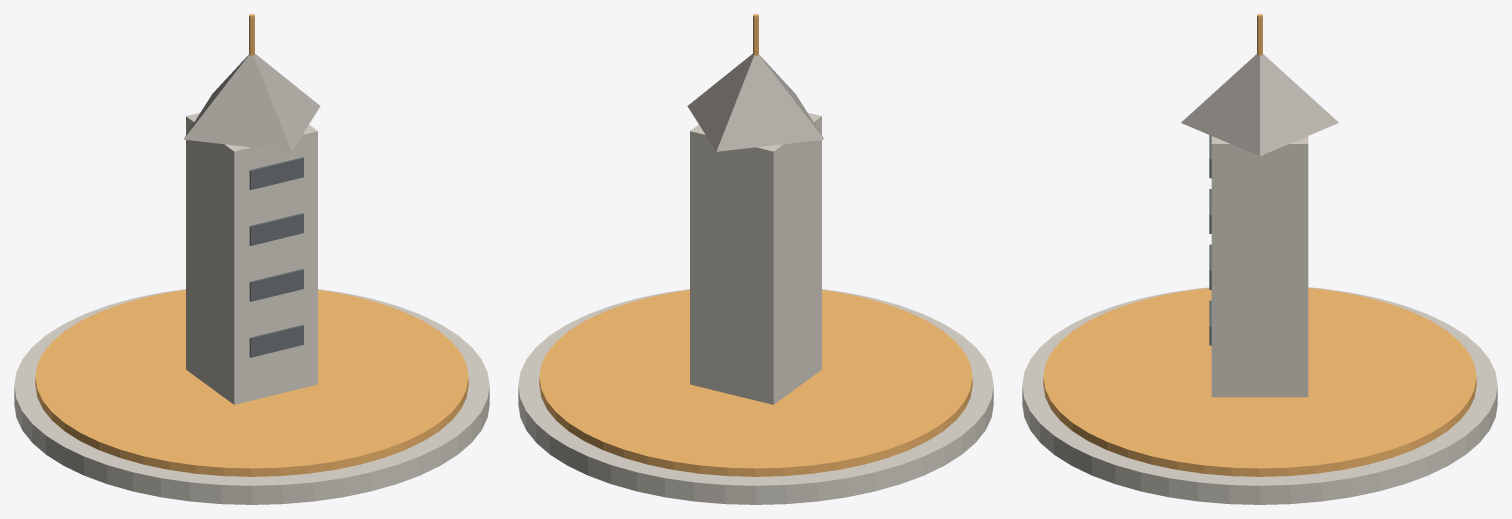
Rendered from tower.glb.
3 views of the same model, side by side, from view 1: azimuth 30°, elevation 25°; view 2: azimuth 150°, elevation 25°; view 3: azimuth 270°, elevation 25° (orthographic).
Parts seen in each view (by area): view 1: Cone.003; view 2: Cone.003; view 3: Cone.003.
Boxes of the visible parts, x1,y1,x2,y2 form: Cone.003: [14, 14, 489, 504]; Cone.003: [518, 14, 993, 504]; Cone.003: [1022, 14, 1497, 504].
Bounding box in the file's own units: 2.7 × 2.44 × 2.7.
